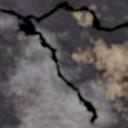brick: (34, 10, 127, 127), (0, 13, 91, 127), (69, 0, 127, 26), (0, 0, 61, 15)
crack: (0, 0, 127, 127)
